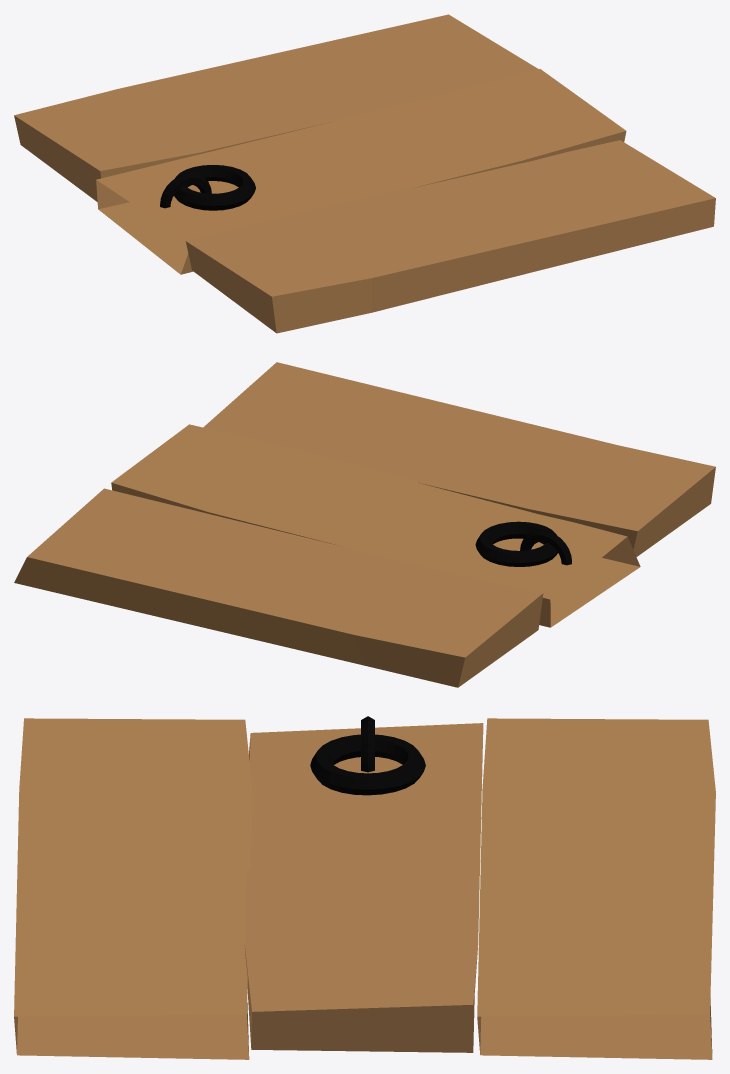
Rendered from Trap_Door.fbx.
3 renders of one model, top to bottom at view 1: azimuth 30°, elevation 25°; view 2: azimuth 150°, elevation 25°; view 3: azimuth 270°, elevation 25°, orthographic. The views are drawn at different scales.
Visible parts, largest first — view 1: Trappe_Door; view 2: Trappe_Door; view 3: Trappe_Door.
Boxes of the visible parts, <box> form: Trappe_Door: <box>14,14,715,333</box>; Trappe_Door: <box>14,362,715,687</box>; Trappe_Door: <box>14,716,715,1059</box>.
Bounding box in the file's own units: 606 × 607 × 76.19.
